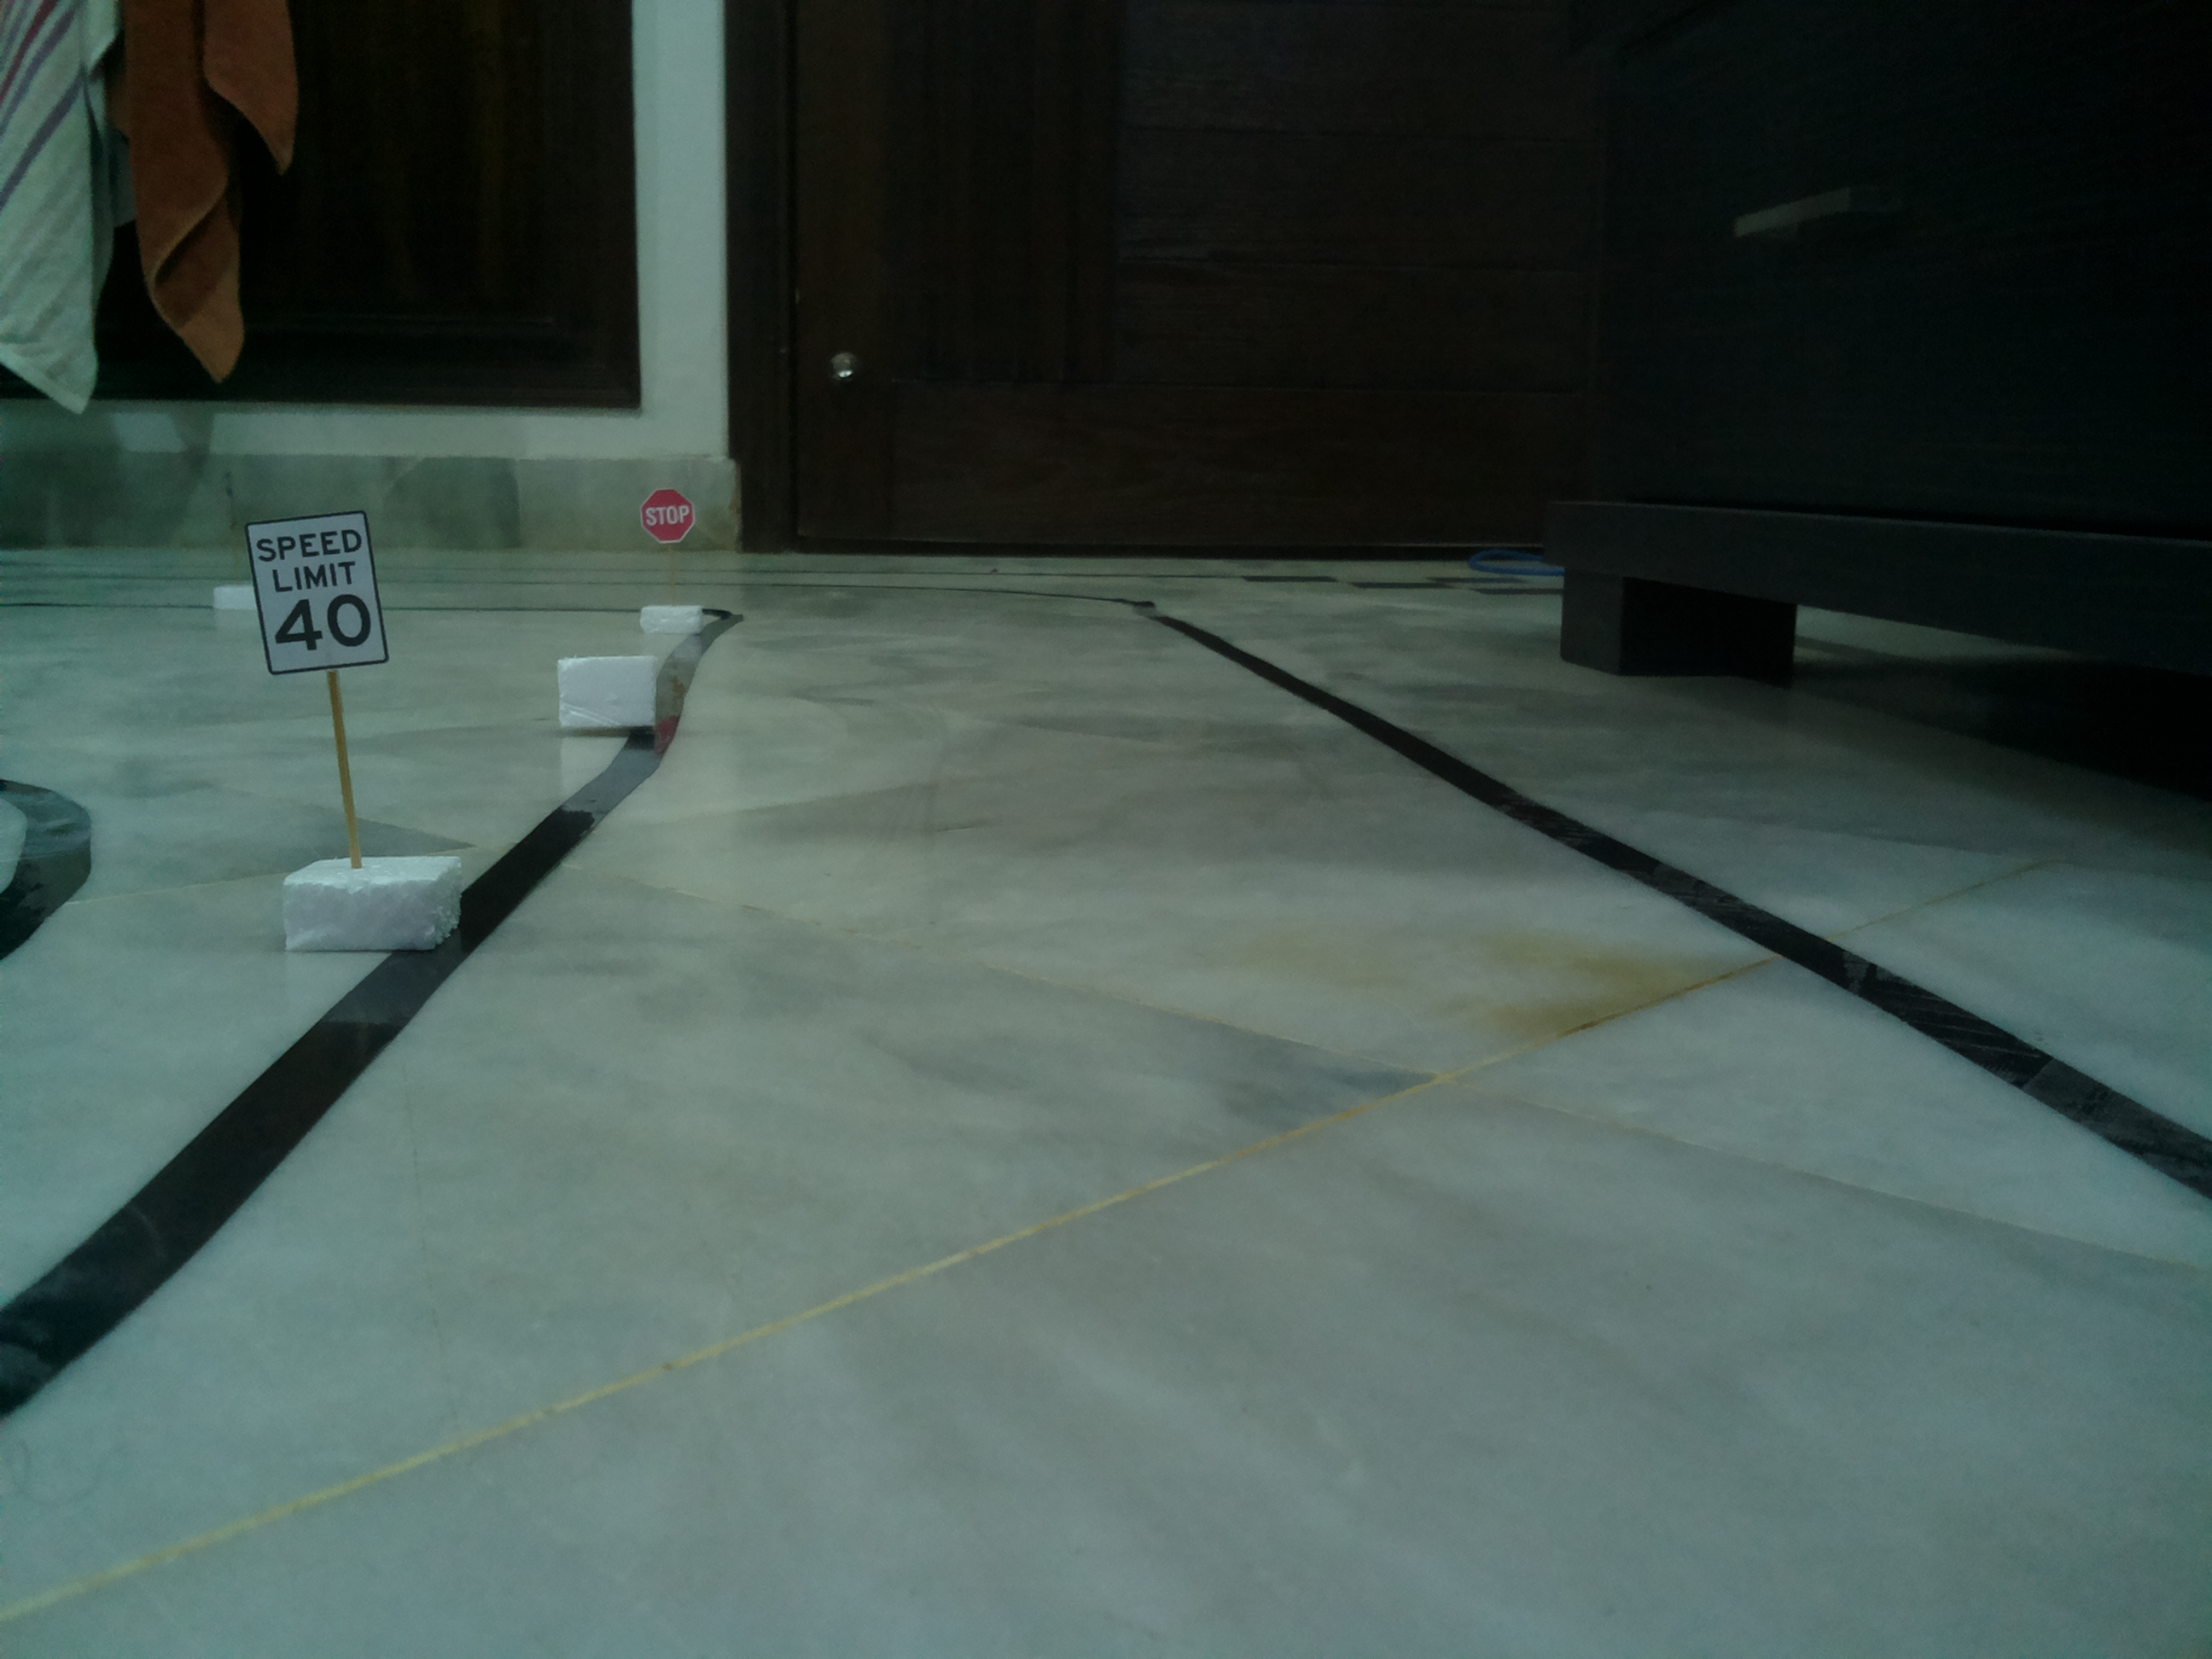Speed limit 40: (240, 507, 388, 674)
Stop sign: (636, 484, 700, 545)
